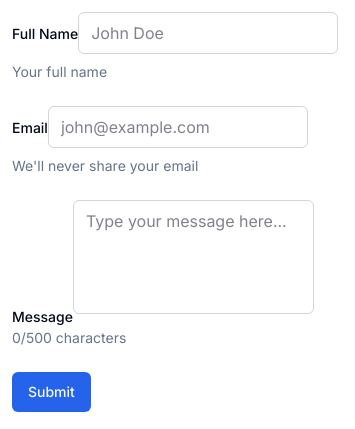
Test: FormComponent › updates character count dynamically
Type "Hello World" into the text box with placeholder "Type your message here..." at (193, 257), box x1=73 y1=200 x2=314 y2=314
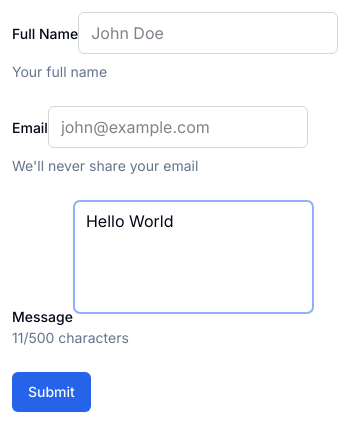
Check: the text "11/500 characters" is shown, box x1=12 y1=329 x2=129 y2=346
